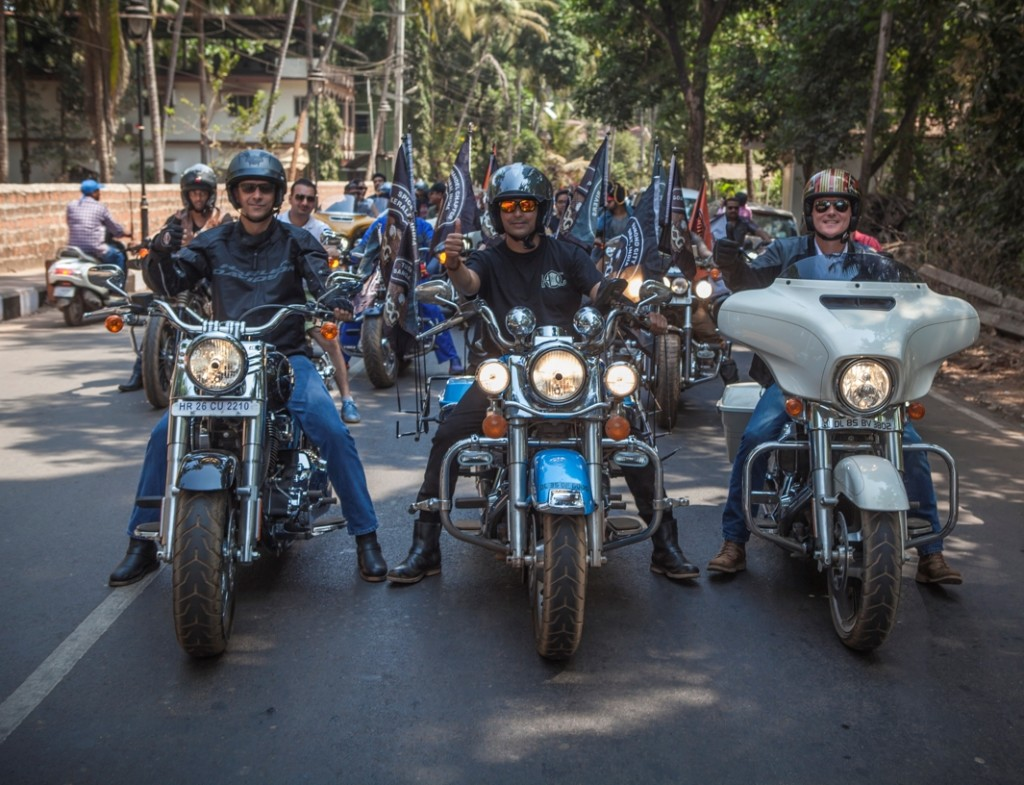helmet: (223, 145, 290, 191), (488, 161, 555, 207), (806, 164, 862, 210), (180, 159, 214, 199)
